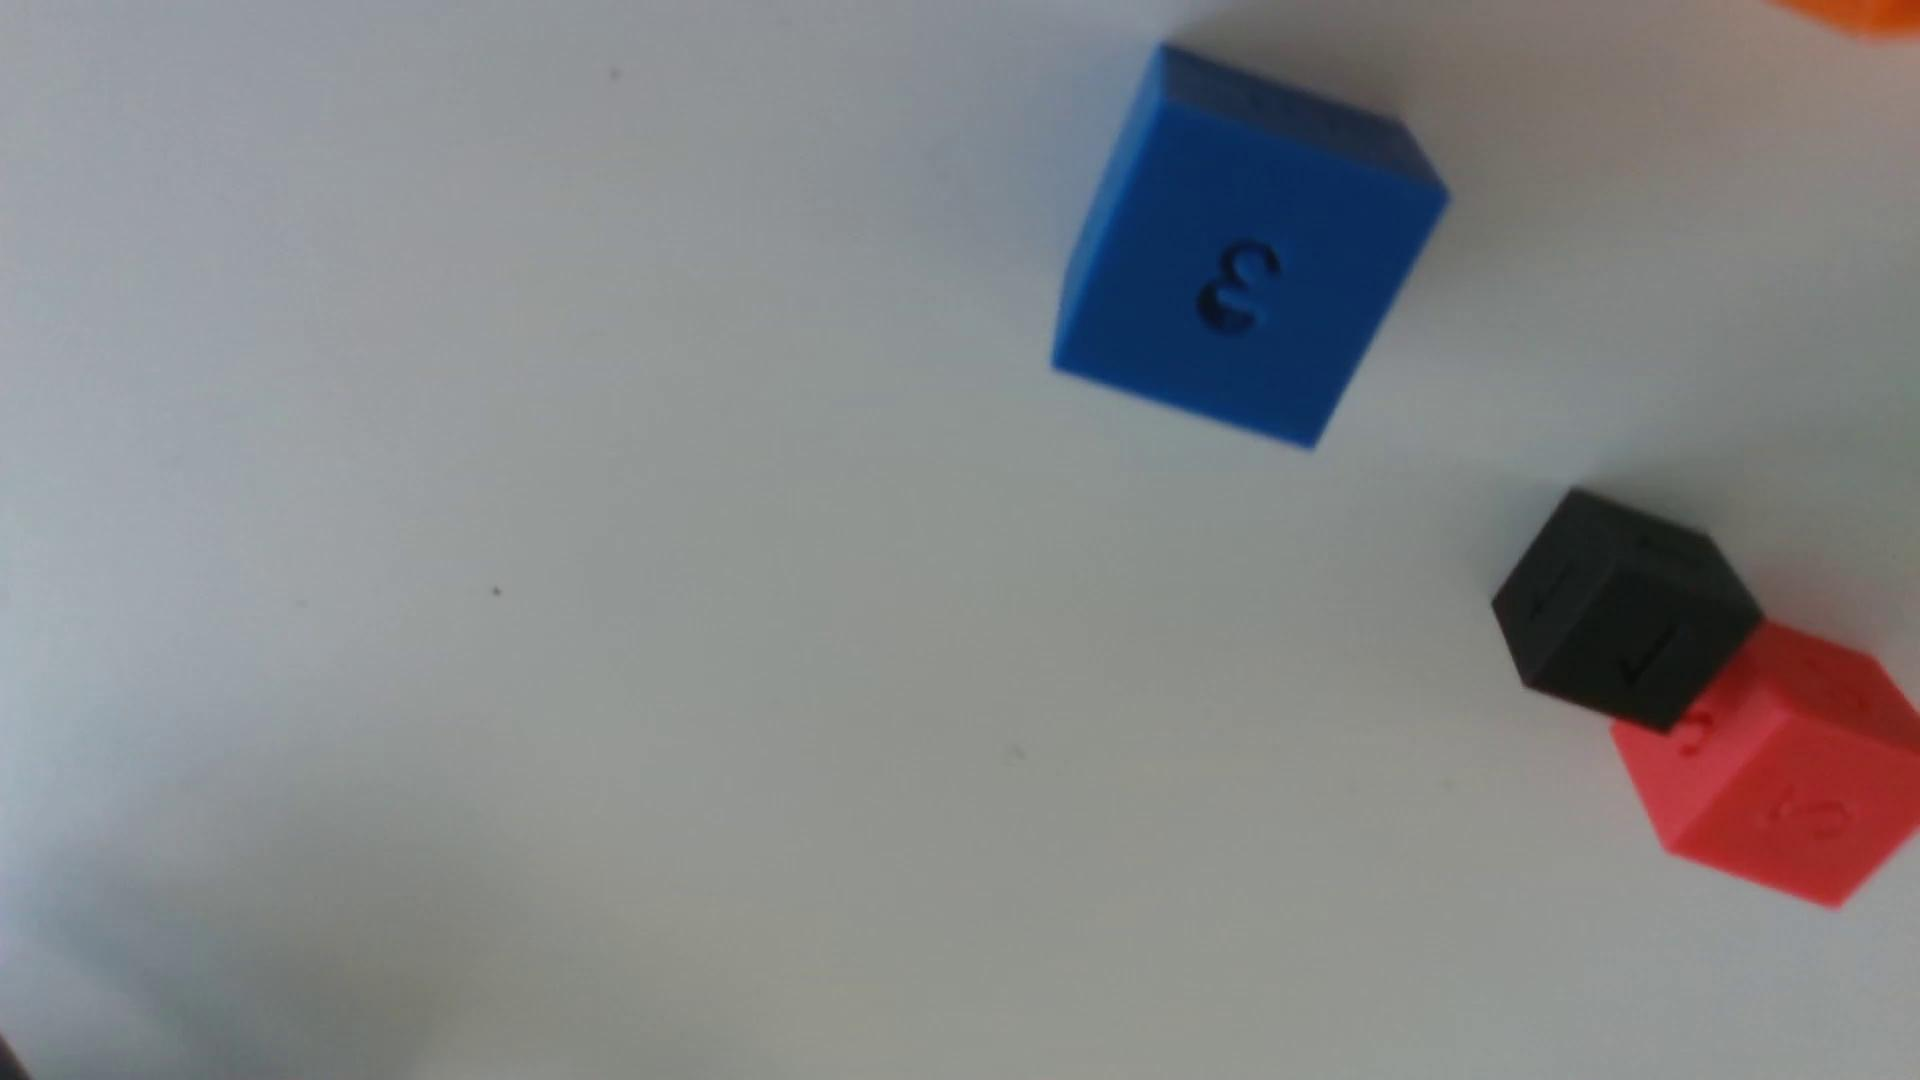black: (1491, 488, 1760, 731)
blue: (1052, 45, 1449, 448)
orange: (1778, 0, 1920, 40)
red: (1611, 618, 1920, 906)
